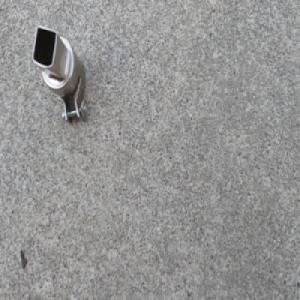MetalPart: (30, 24, 89, 128)
